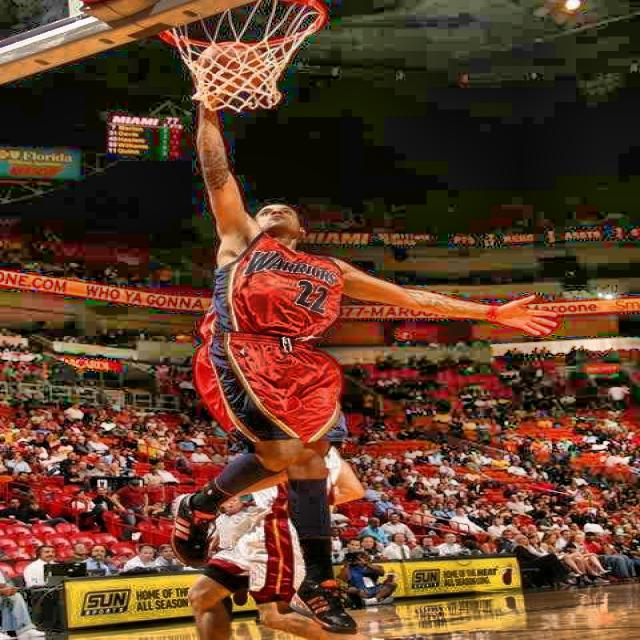rim: (158, 0, 325, 110)
